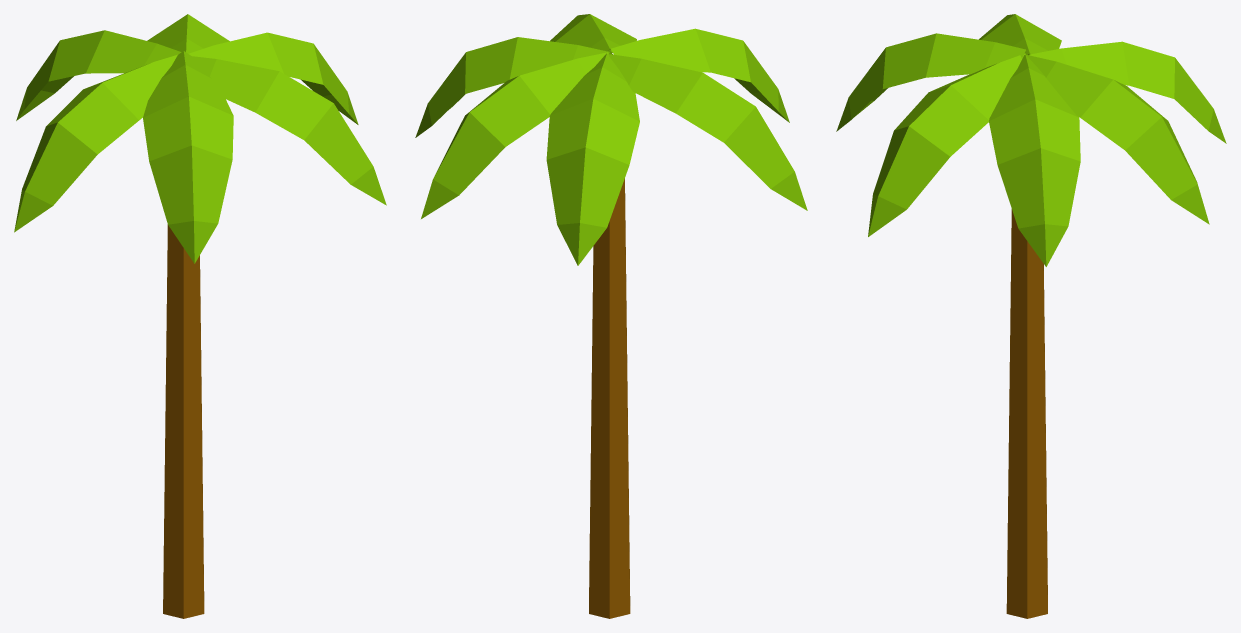
The model's file is CoconutTree1.fbx.
The picture shows the model from 3 angles, left to right: view 1: azimuth 30°, elevation 25°; view 2: azimuth 150°, elevation 25°; view 3: azimuth 270°, elevation 25°; orthographic projection.
Parts seen in each view (by area): view 1: yezishu; view 2: yezishu; view 3: yezishu.
Boxes of the visible parts, x1=… form: yezishu: x1=14, y1=14, x2=386, y2=618; yezishu: x1=415, y1=14, x2=807, y2=618; yezishu: x1=836, y1=14, x2=1226, y2=618.
Bounding box in the file's own units: 18.27 × 26.53 × 16.77.
